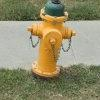a fire hydrant: (29, 1, 70, 80)
